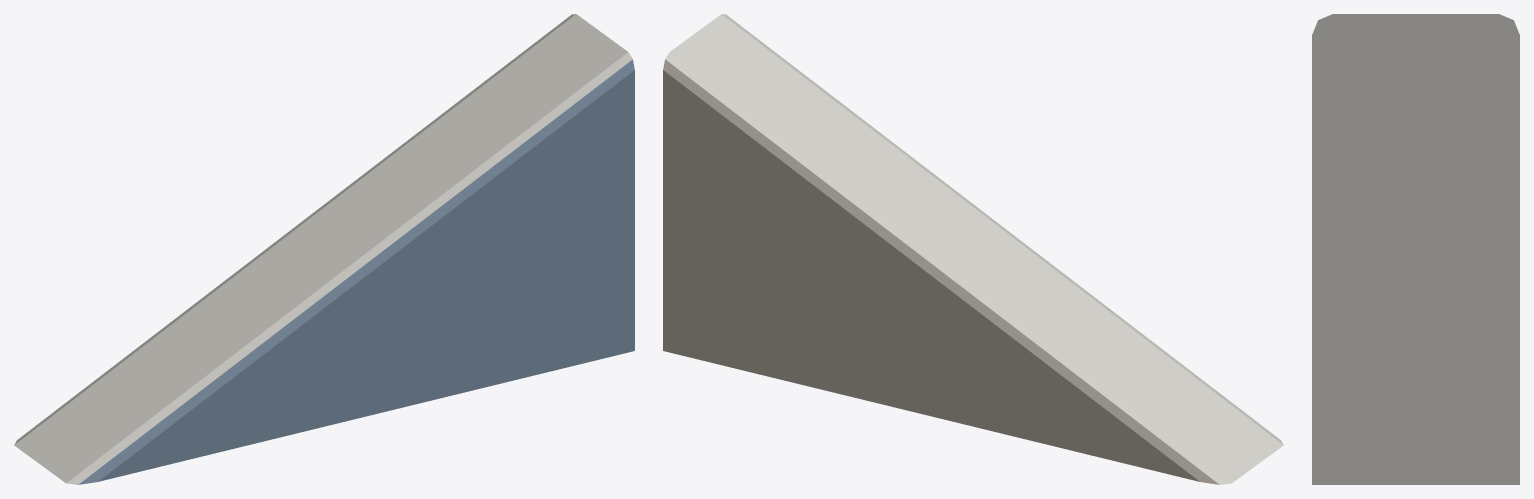
File: SM_Kit_Gable_Low_0.glb
3 renders of one model, left to right at view 1: azimuth 30°, elevation 25°; view 2: azimuth 150°, elevation 25°; view 3: azimuth 270°, elevation 25°, orthographic. The views are drawn at different scales.
Visible parts, largest first — view 1: SM_Kit_Gable_Low_0; view 2: SM_Kit_Gable_Low_0; view 3: SM_Kit_Gable_Low_0.
Part boxes in pixels (x1,y1,x2,y2): SM_Kit_Gable_Low_0: (14, 14, 634, 484); SM_Kit_Gable_Low_0: (663, 14, 1283, 484); SM_Kit_Gable_Low_0: (1312, 14, 1519, 484).
Bounding box in the file's own units: 1 × 0.5 × 0.2.
